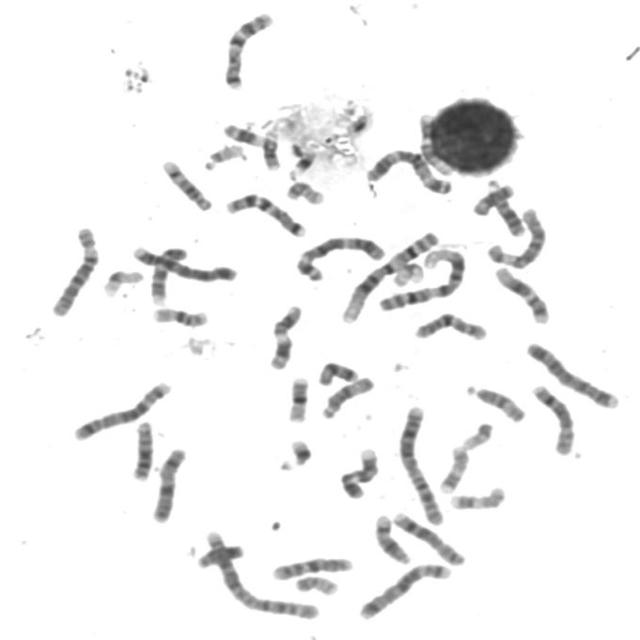A1: (337, 227, 442, 326), (373, 245, 469, 313)
A2: (200, 526, 324, 623), (394, 402, 447, 527)
A3: (361, 144, 456, 197), (292, 232, 387, 283)
B4: (522, 338, 621, 411), (128, 242, 240, 284)
B5: (68, 377, 174, 442), (354, 560, 454, 622)
C10: (412, 309, 489, 342), (267, 554, 354, 582)
C11: (218, 119, 282, 171), (264, 301, 304, 371)
C12: (491, 262, 552, 325), (414, 108, 456, 178)
C6: (46, 221, 101, 318), (483, 204, 549, 269)
C7: (220, 7, 276, 92), (222, 189, 308, 238)
C8: (389, 509, 468, 567), (527, 381, 578, 456)
C9: (146, 243, 190, 306), (336, 444, 381, 500)
D13: (482, 176, 527, 238), (128, 417, 156, 483)
D14: (157, 156, 214, 212), (371, 511, 414, 566)
D15: (462, 381, 528, 424), (318, 372, 377, 420)
E16: (148, 304, 210, 328), (283, 373, 311, 425)
E17: (434, 443, 471, 495), (446, 483, 508, 511)
E18: (193, 541, 246, 570), (314, 358, 360, 387)
F19: (98, 266, 146, 299), (388, 258, 428, 288)
F20: (282, 178, 327, 206), (291, 572, 341, 597)
G21: (277, 435, 315, 472), (284, 142, 318, 182)
G22: (200, 139, 247, 172), (458, 418, 495, 452)
X: (147, 444, 189, 525)
